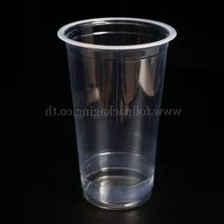glass: (51, 12, 180, 214)
